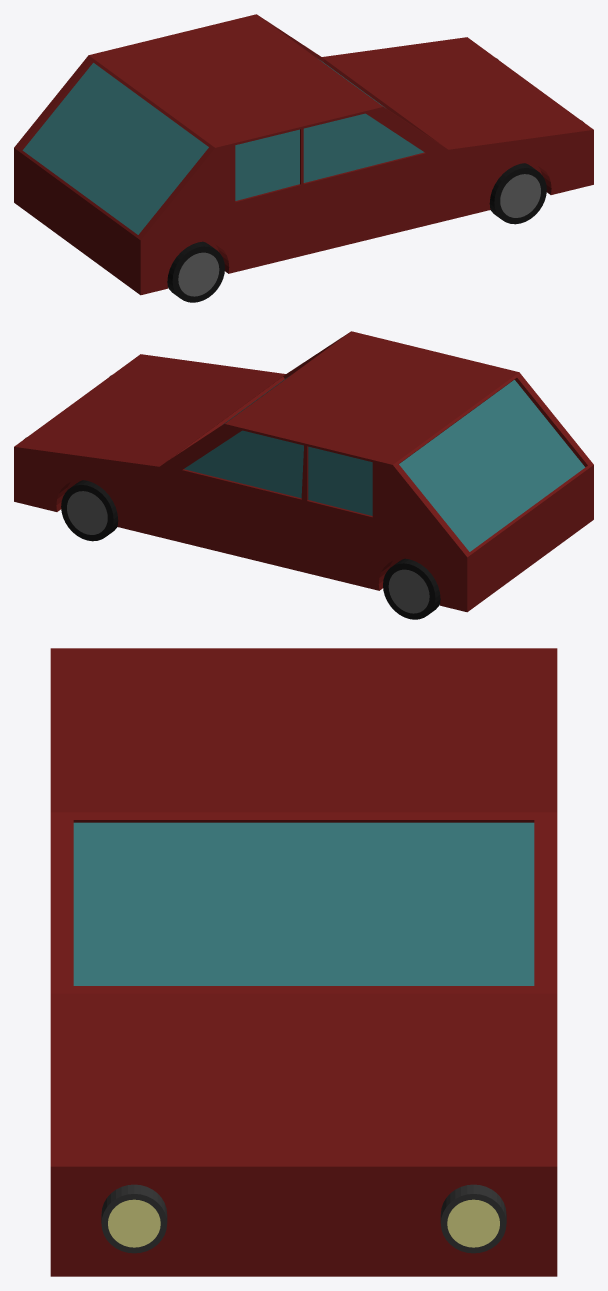
File: car1 copy.fbx
The picture shows the model from 3 angles, top to bottom: view 1: azimuth 30°, elevation 25°; view 2: azimuth 150°, elevation 25°; view 3: azimuth 270°, elevation 25°; orthographic projection. The views are drawn at different scales.
Visible parts, largest first — view 1: Cylinder.015; view 2: Cylinder.015; view 3: Cylinder.015.
Part boxes in pixels (x1,y1,x2,y2): Cylinder.015: (14,14,593,302); Cylinder.015: (14,331,593,619); Cylinder.015: (50,648,557,1276).
Size of the model in its own units: 645 by 200 by 305.
